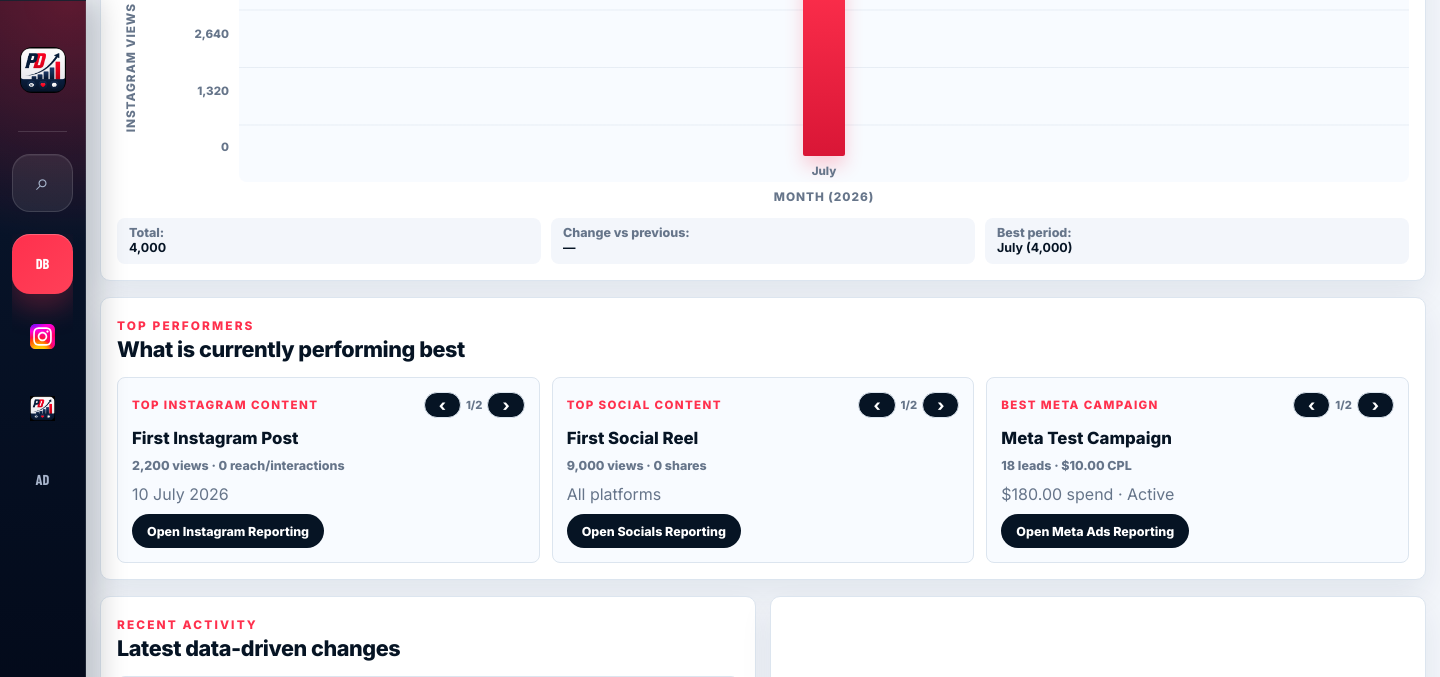
cycles dashboard top performer carousels
(page scrolled)
Expected: the text "First Instagram Post" below "Top Instagram Content" is shown, [132,429,298,449]
Click the button "›" in the row of "Top Instagram Content" at {"x": 506, "y": 406}, box [488,392,525,418]
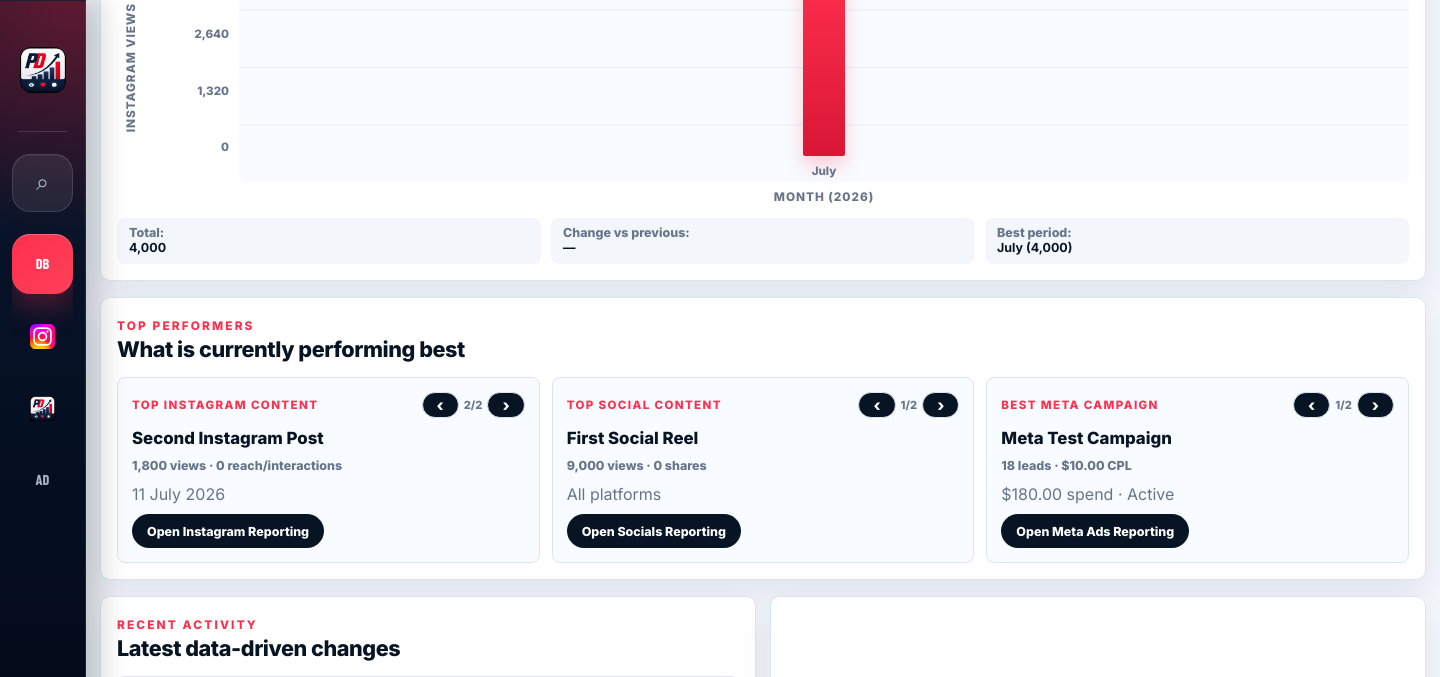
Now the text "Second Instagram Post" below "Top Instagram Content" is shown, box [132,429,324,449]
